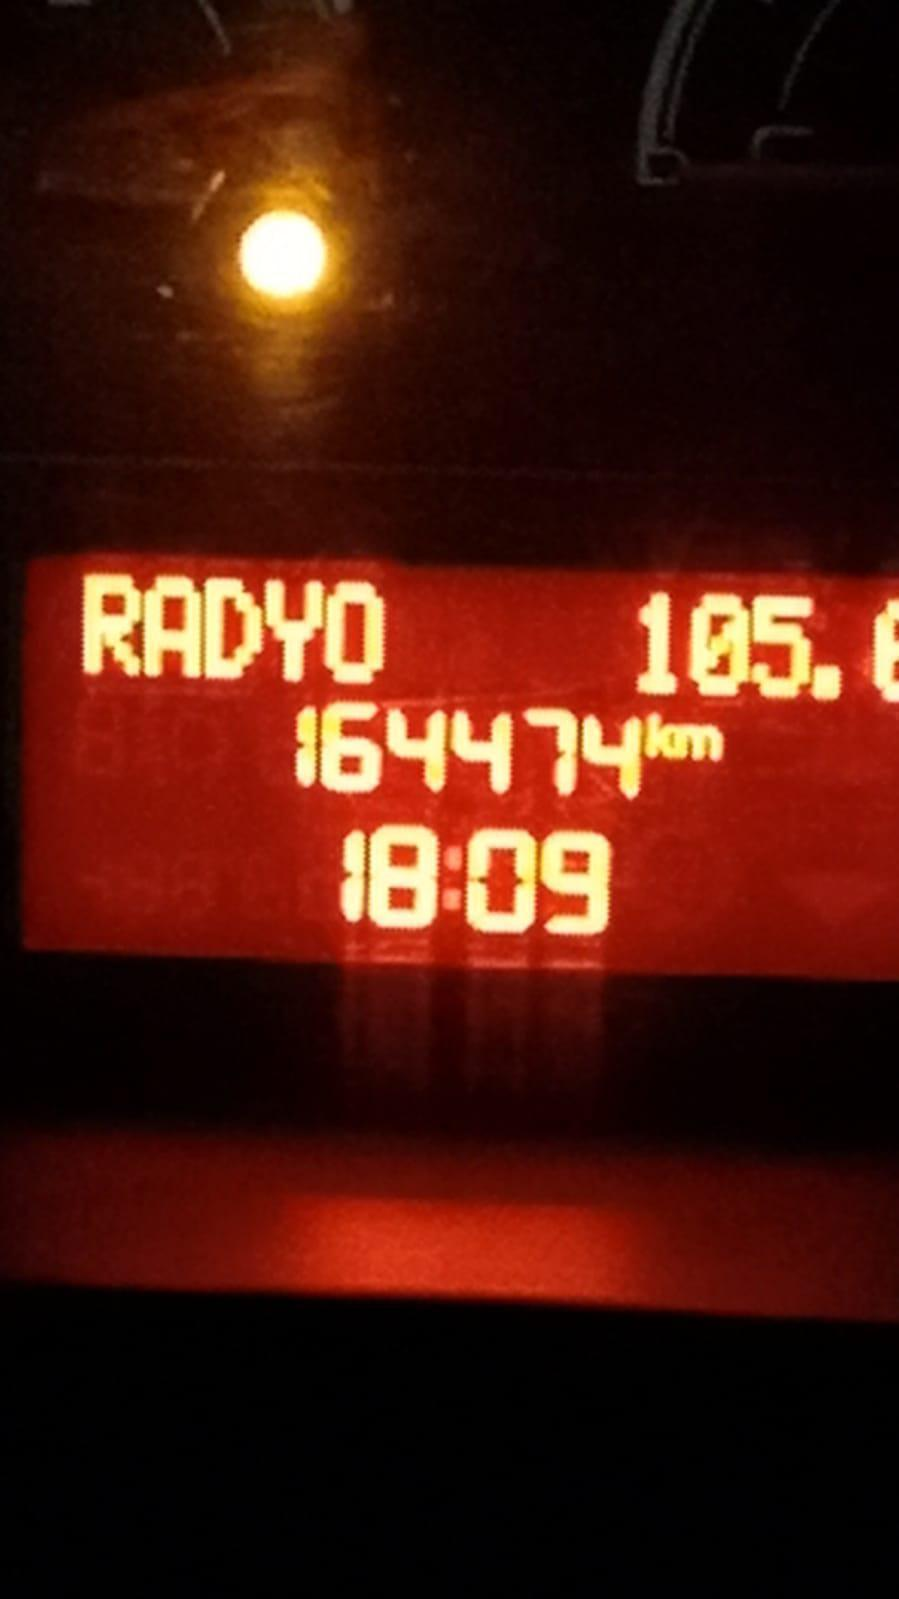,: (813, 658, 851, 708)
0: (467, 825, 538, 941), (688, 588, 750, 703)
1: (630, 582, 679, 696), (336, 820, 368, 931), (288, 702, 317, 795)
4: (450, 698, 512, 795), (581, 705, 643, 800), (387, 697, 448, 794)
5: (754, 584, 811, 706)
6: (319, 695, 385, 798)
7: (525, 698, 581, 801)
8: (369, 819, 435, 933)
9: (539, 828, 617, 943)
X: (79, 563, 141, 682), (328, 575, 393, 686), (265, 566, 322, 687), (205, 570, 265, 685), (143, 571, 200, 686), (674, 719, 731, 763), (440, 835, 461, 926), (647, 707, 673, 765)
odometer: (4, 533, 899, 989)
